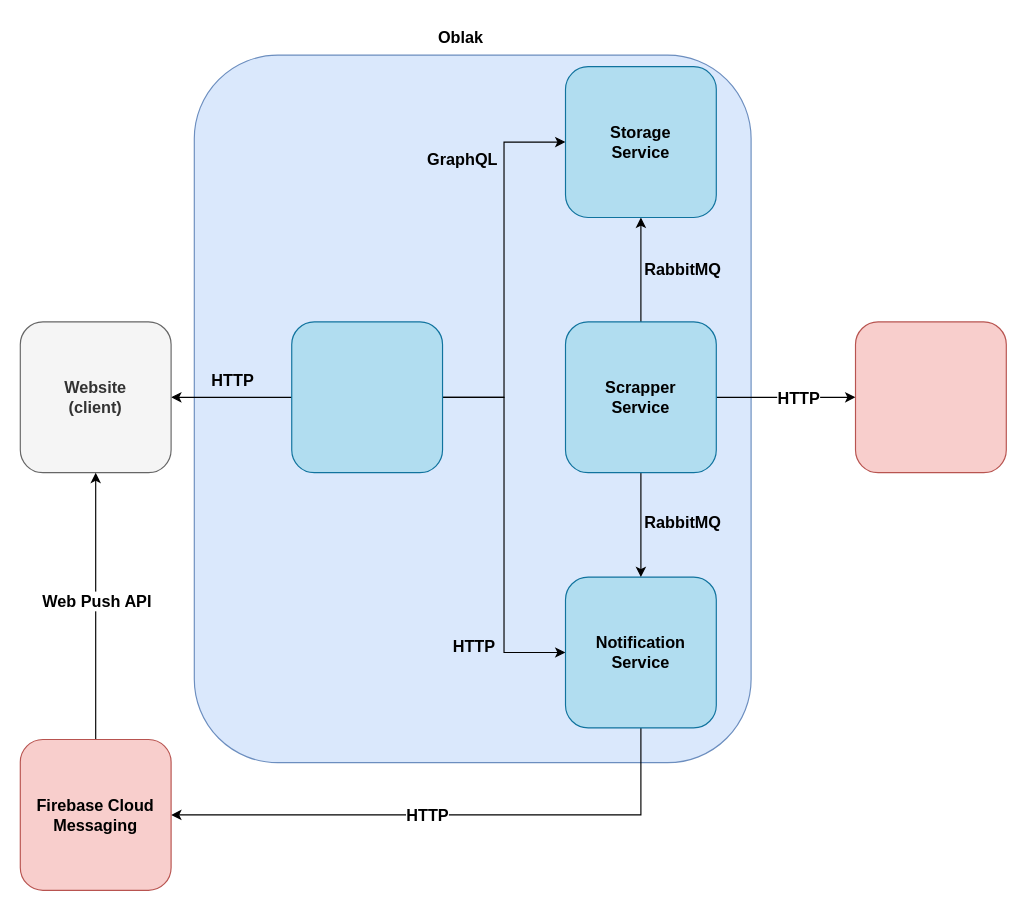
This 1027x911 diagram has some shape labels left out. Here are the shapes that lost their labels. From the top down, the centre of each, then its label:
At (367,397): "Web Service Nuxt.js".
At (930,397): "ARSO API".
